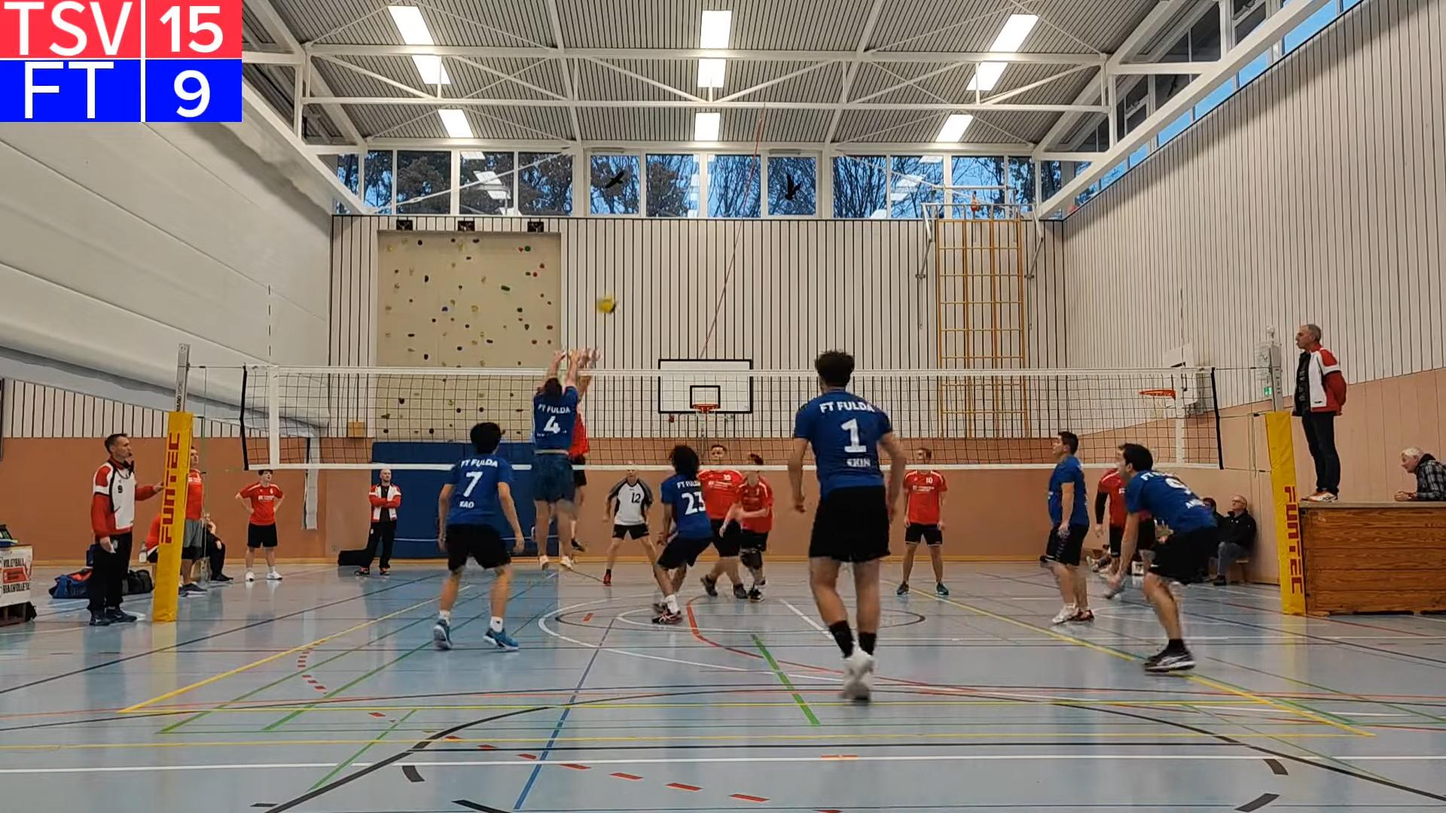attacco: (562, 340, 608, 561)
muro: (533, 350, 581, 573)
